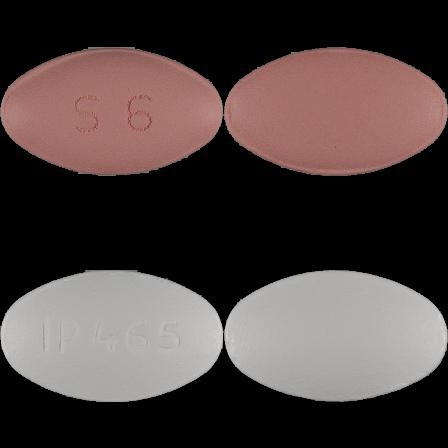42254-032: (0, 0, 224, 224)
